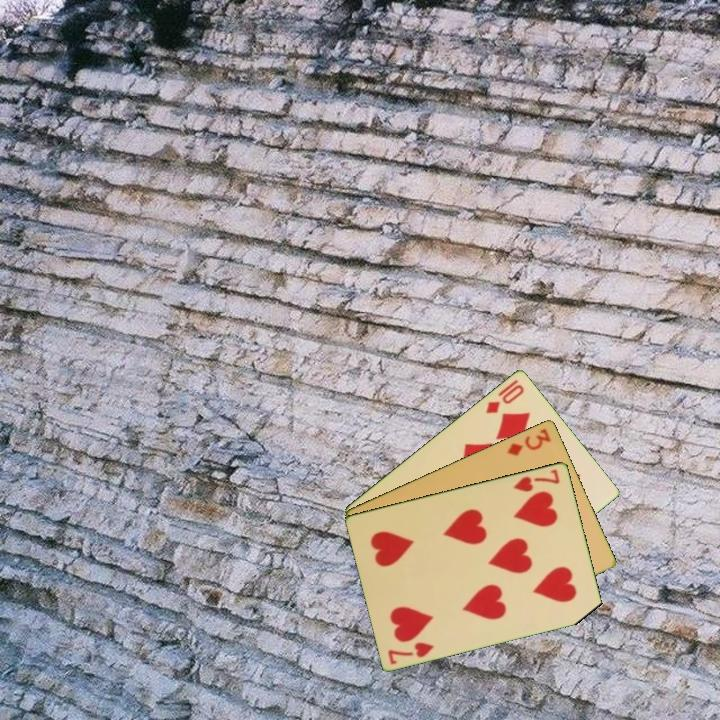10d: (482, 376, 527, 416)
3d: (503, 424, 554, 458)
7h: (510, 465, 563, 494), (385, 638, 437, 667)
